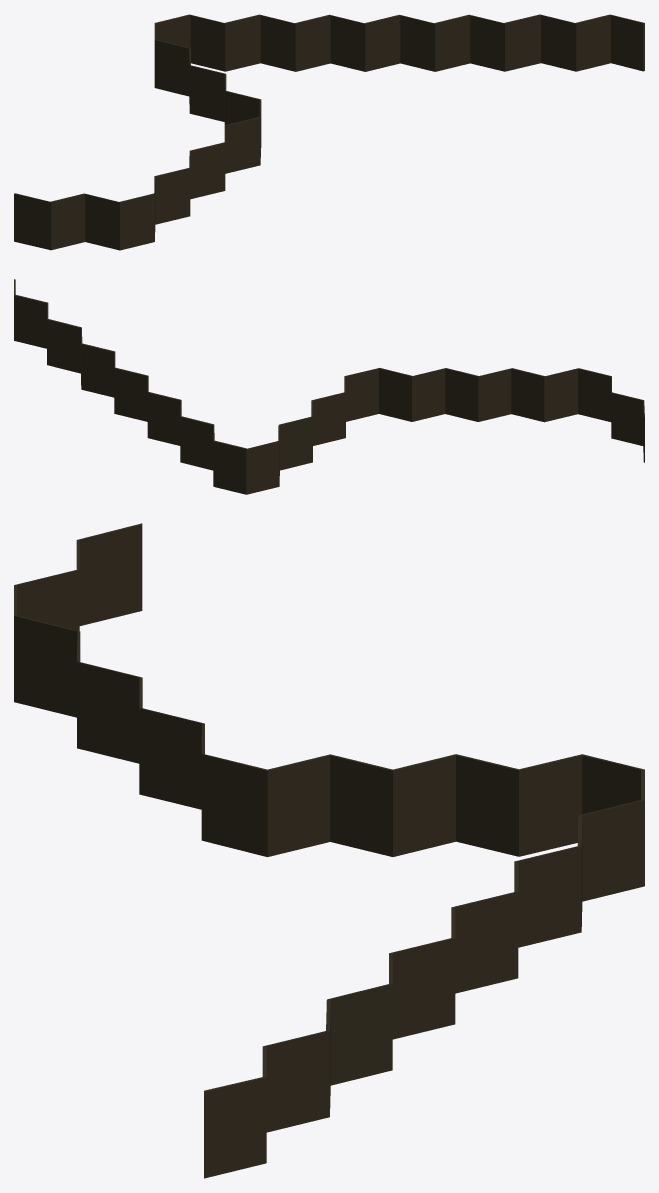
File: Stage1Walls2.fbx
The picture shows the model from 3 angles, top to bottom: view 1: azimuth 30°, elevation 25°; view 2: azimuth 150°, elevation 25°; view 3: azimuth 270°, elevation 25°; orthographic projection. The views are drawn at different scales.
Visible parts, largest first — view 1: Walls2; view 2: Walls2; view 3: Walls2.
Boxes of the visible parts, x1,y1,x2,y2 form: Walls2: (14, 14, 644, 250); Walls2: (14, 279, 644, 494); Walls2: (14, 523, 644, 1178).
Bounding box in the file's own units: 168 × 11.85 × 78.52.
